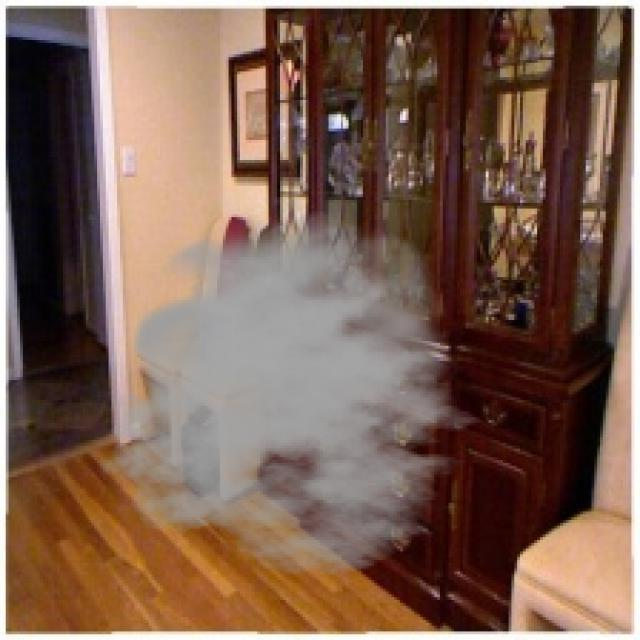Smoke: (97, 212, 500, 577)
